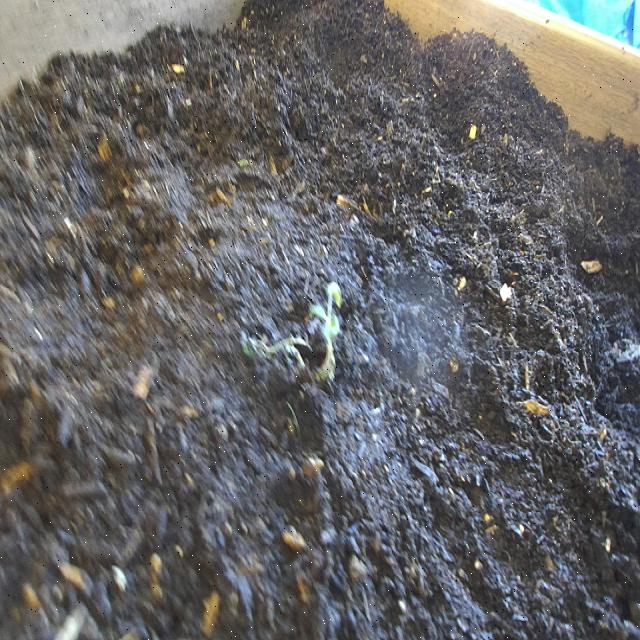Unhealthy: (234, 252, 354, 394)
